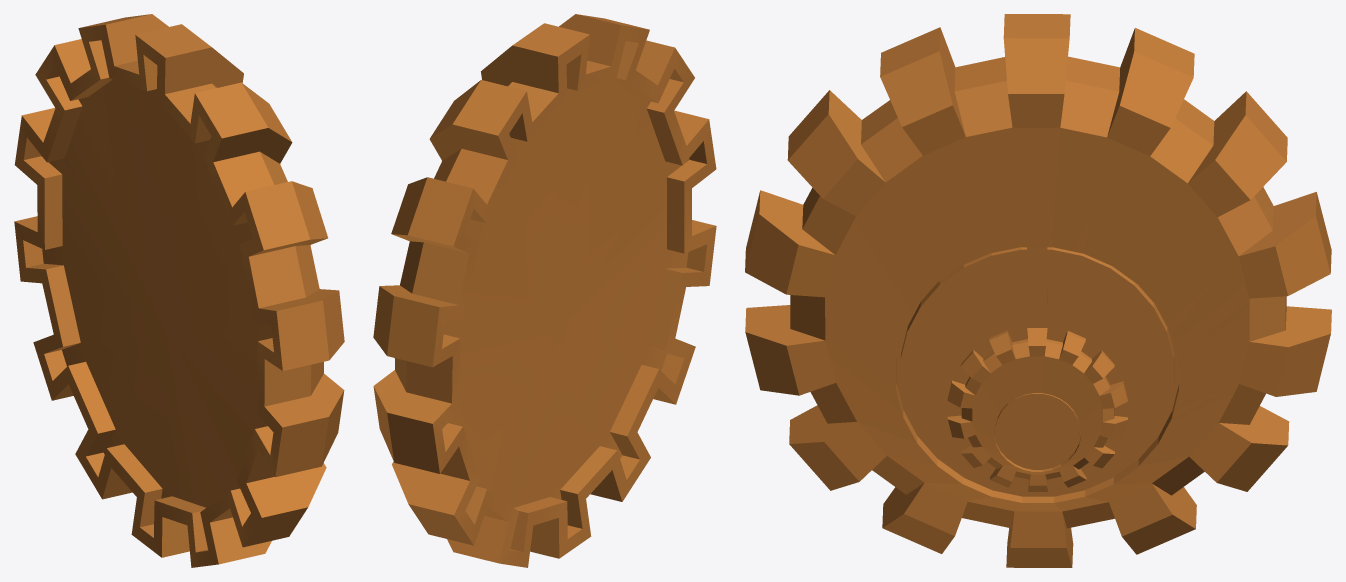
The model's file is door-OBS.fbx.
3 renders of one model, left to right at view 1: azimuth 30°, elevation 25°; view 2: azimuth 150°, elevation 25°; view 3: azimuth 270°, elevation 25°, orthographic. The views are drawn at different scales.
Visible parts, largest first — view 1: Cylinder.002; view 2: Cylinder.002; view 3: Cylinder.002.
Boxes of the visible parts, x1=… form: Cylinder.002: x1=14, y1=14, x2=344, y2=567; Cylinder.002: x1=373, y1=14, x2=716, y2=567; Cylinder.002: x1=745, y1=14, x2=1331, y2=567.
Bounding box in the file's own units: 42.75 × 221 × 221.
